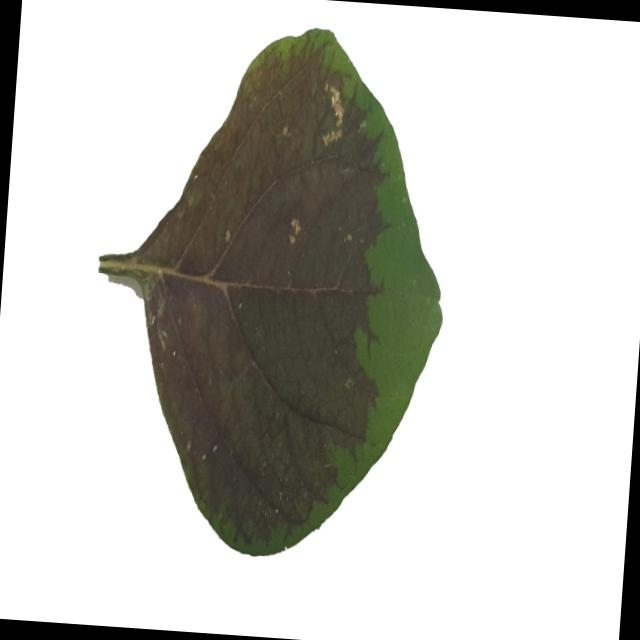Medicinal-Arive Dantu: (79, 15, 462, 572)
